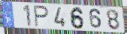1: (23, 5, 33, 28)
4: (53, 7, 67, 28)
6: (70, 7, 87, 30), (88, 8, 102, 31)
8: (106, 9, 121, 31)
P: (33, 5, 50, 28)
